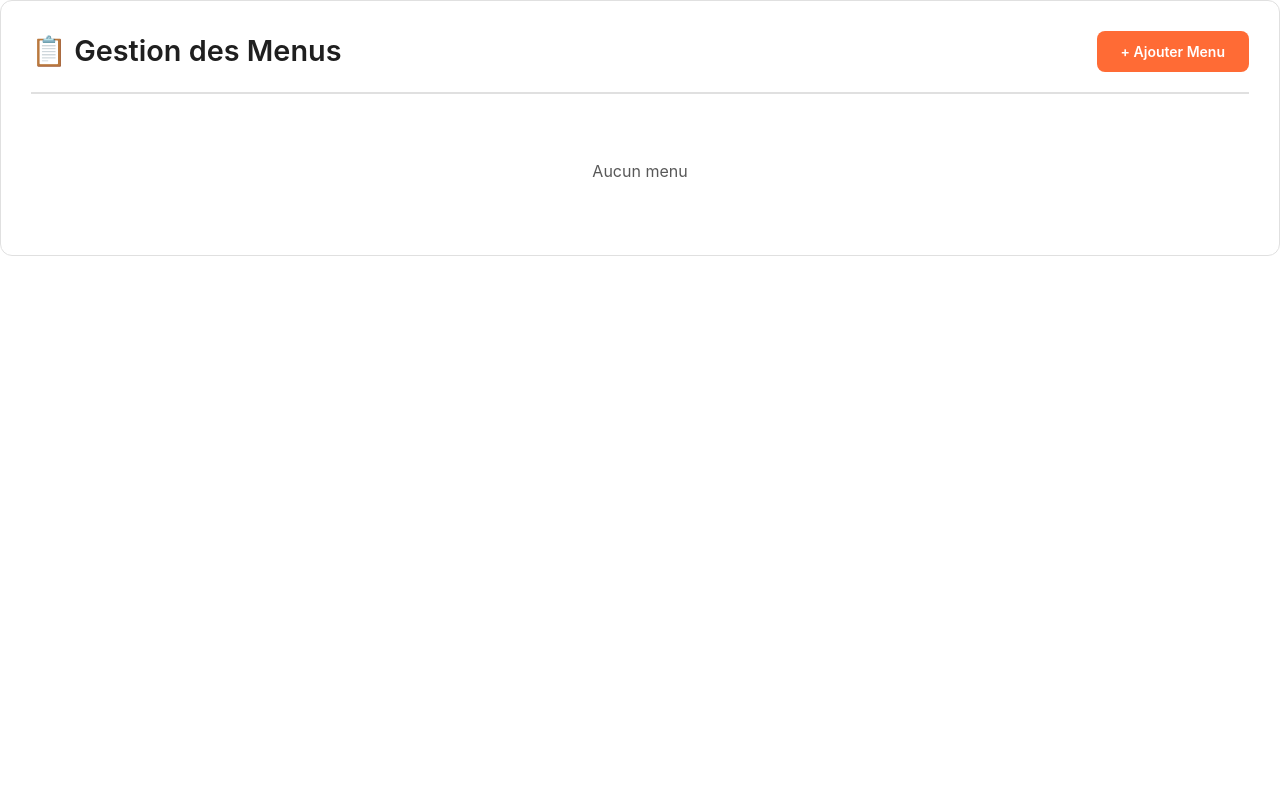
Fonctions et composants du frontend › MenusManagement refuse un menu sans nom ou prix
The width and height of the screenshot is (1280, 800).
Click the button "+ Ajouter Menu" at (1173, 52), box [1097, 31, 1249, 72]
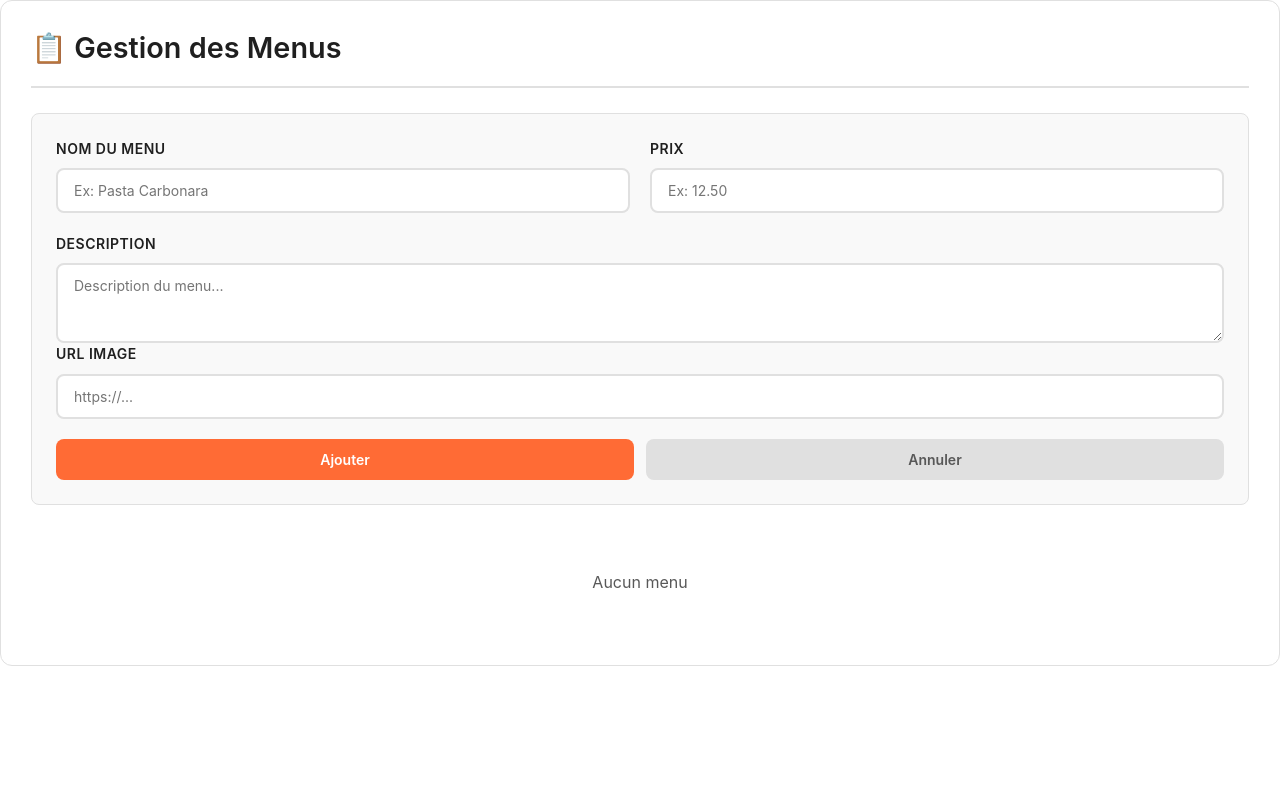
Submit the text "Nom du menu", box [31, 112, 1249, 505]
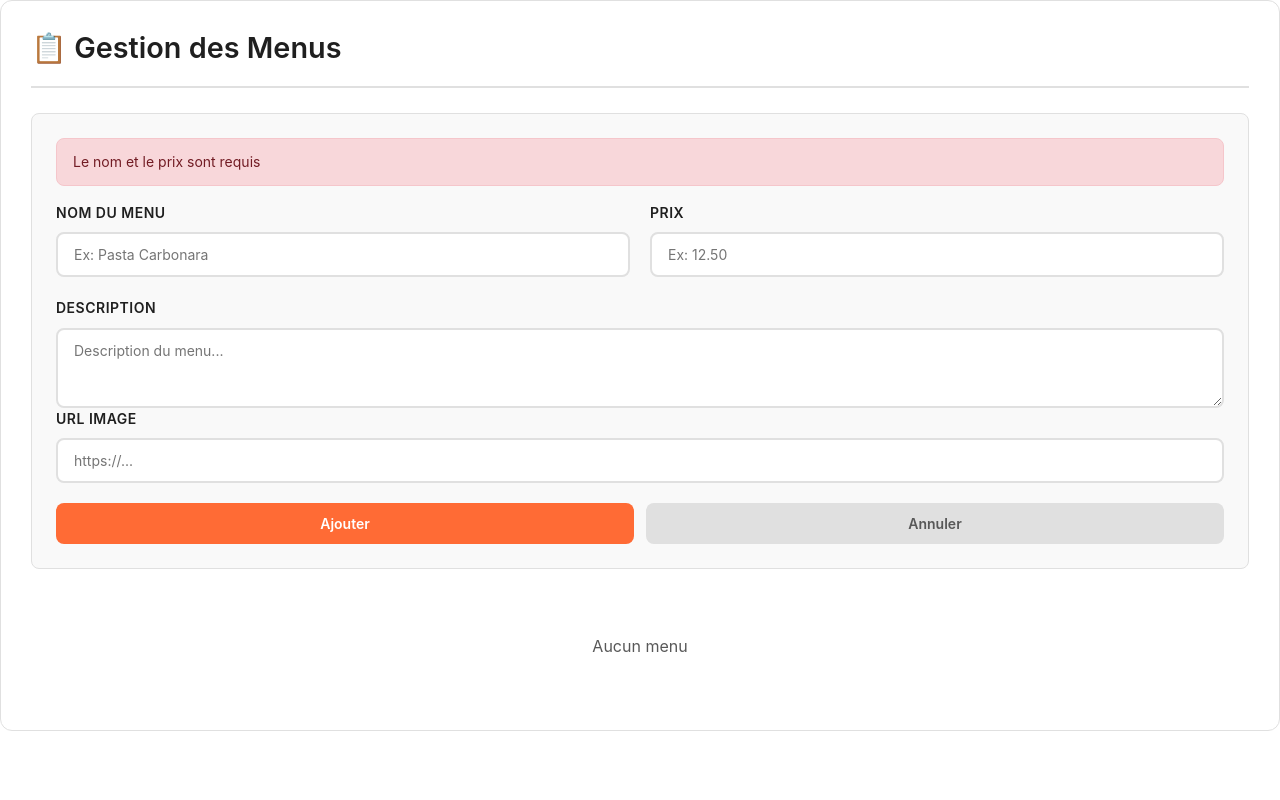
Now the text "Le nom et le prix sont requis" is shown, box [56, 138, 1224, 186]
